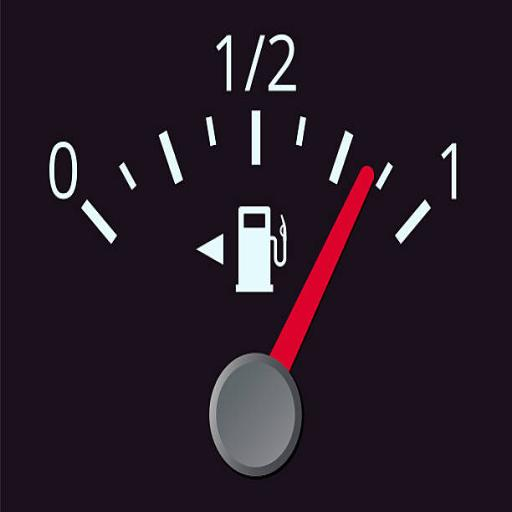empty: (40, 134, 83, 208)
fuel_icon: (234, 199, 292, 297)
full: (438, 136, 467, 214)
guage_area: (8, 4, 502, 505)
needle_center: (202, 338, 305, 482)
needle_tip: (354, 162, 375, 210)
